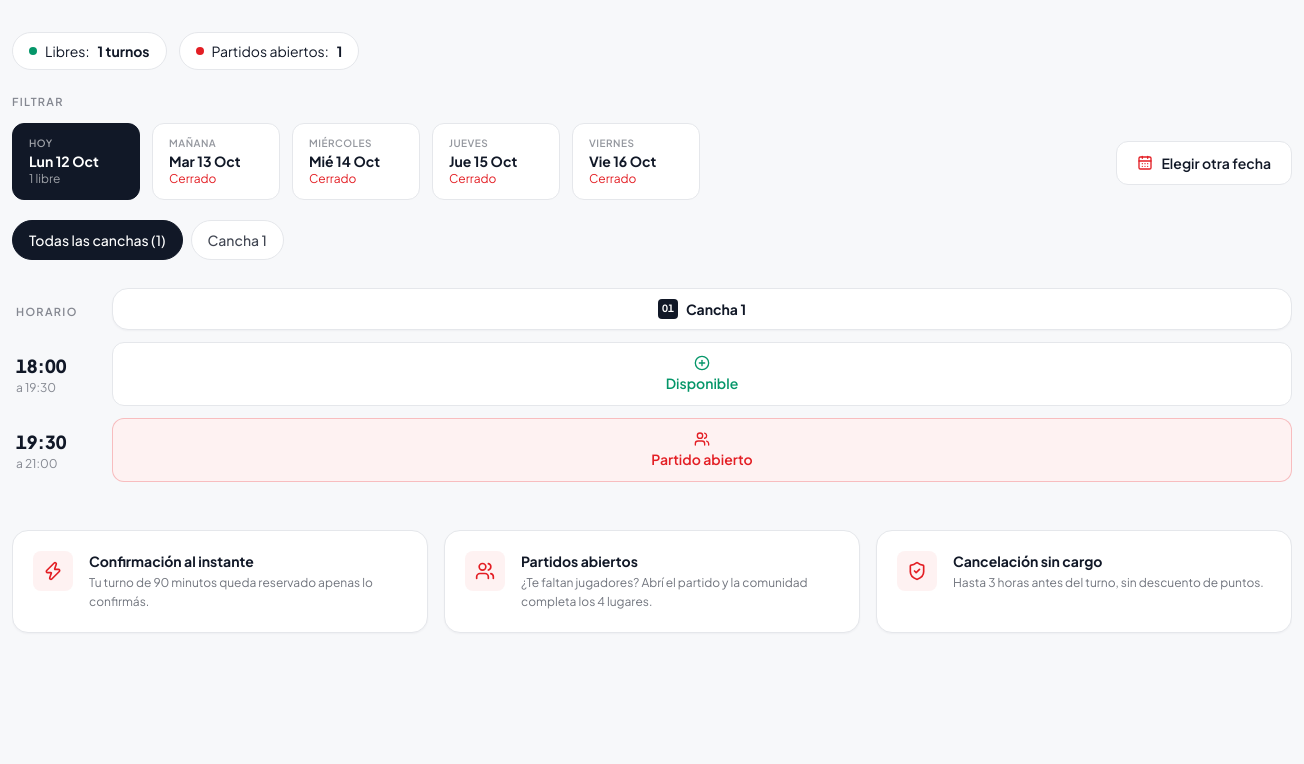
BookingsBoard › al elegir un partido abierto también muestra dónde queda la cancha
The width and height of the screenshot is (1304, 764).
Click the button with aria-label "Cancha 1, 19:30, partido abierto" at coordinates (702, 450), box [112, 418, 1292, 482]
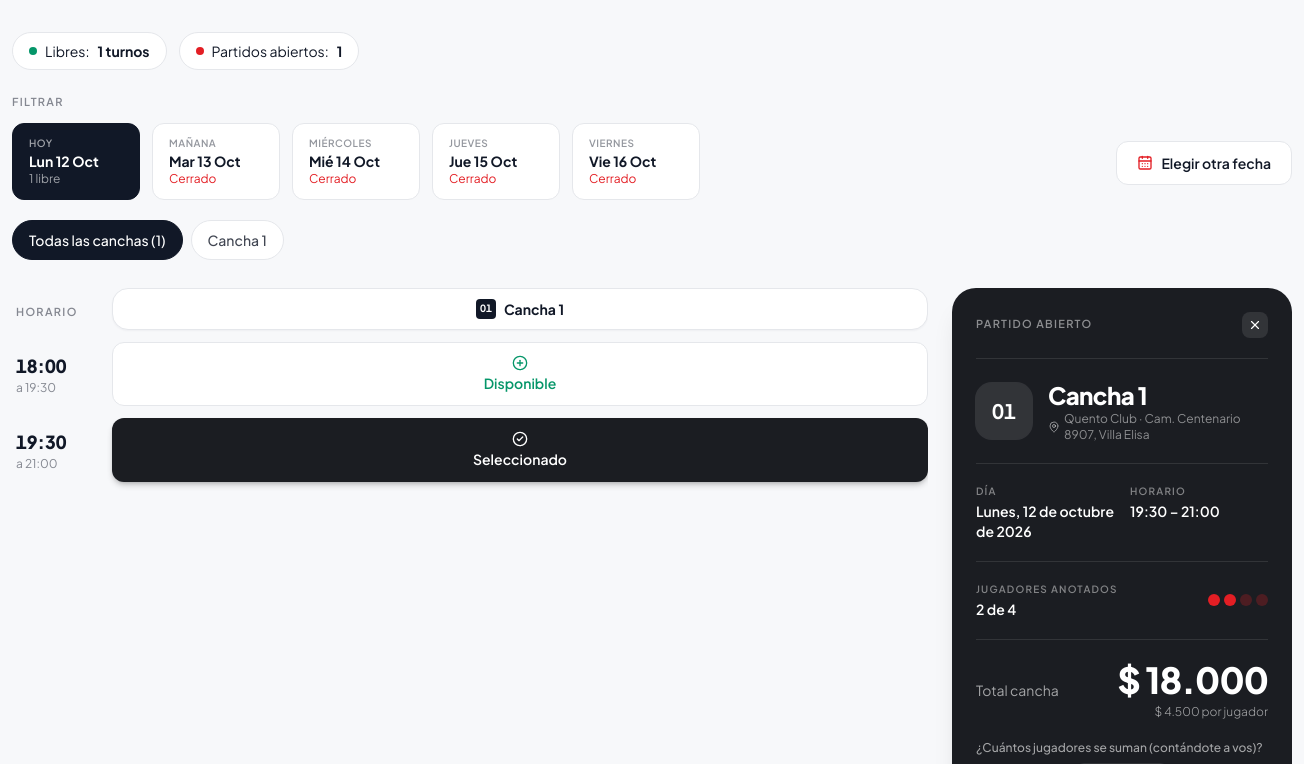
Expected: the link "Quento Club · Cam. Centenario 8907, Villa Elisa" is shown, [1048, 410, 1268, 442]
